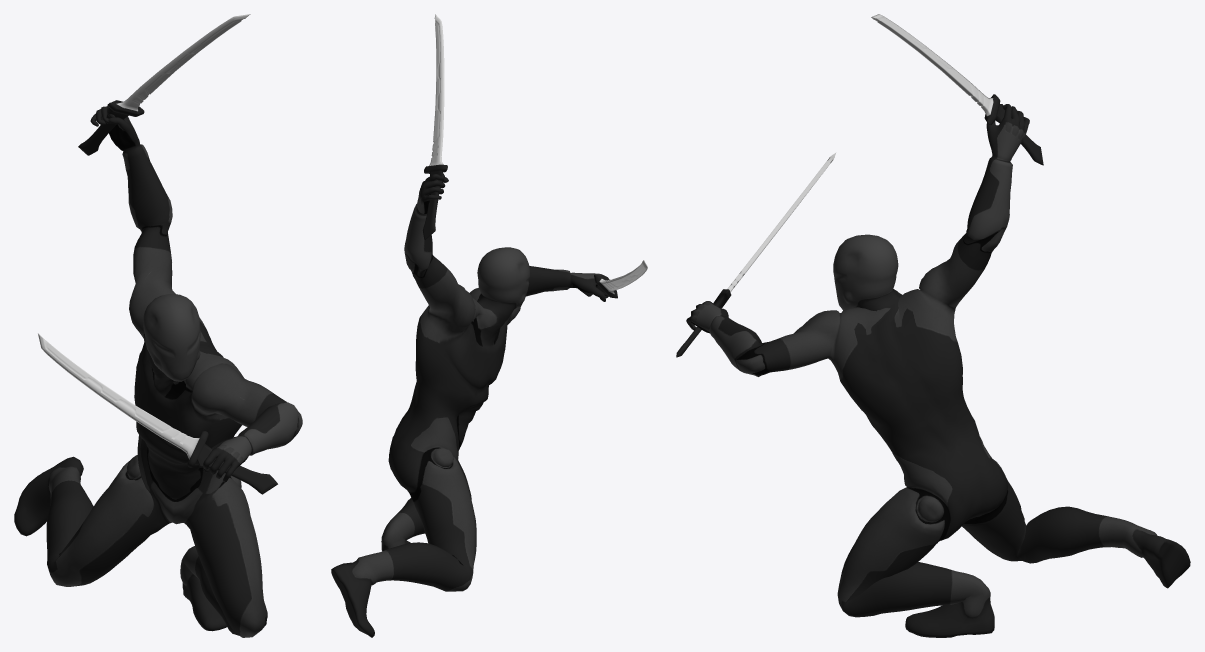
3 views of the same model, side by side, from view 1: azimuth 30°, elevation 25°; view 2: azimuth 150°, elevation 25°; view 3: azimuth 270°, elevation 25° (orthographic). The views are drawn at different scales.
Visible parts, largest first — view 1: Cyborg_Ninja_Killer, Sword_l, Sword_l001; view 2: Cyborg_Ninja_Killer, Sword_l001, Sword_l; view 3: Cyborg_Ninja_Killer, Sword_l001, Sword_l.
Part boxes in pixels (x1=…): Cyborg_Ninja_Killer: x1=14, y1=102, x2=302, y2=637; Sword_l: x1=38, y1=333, x2=277, y2=494; Sword_l001: x1=78, y1=14, x2=250, y2=155; Cyborg_Ninja_Killer: x1=331, y1=174, x2=609, y2=637; Sword_l001: x1=422, y1=14, x2=447, y2=239; Sword_l: x1=578, y1=260, x2=647, y2=298; Cyborg_Ninja_Killer: x1=686, y1=104, x2=1190, y2=637; Sword_l001: x1=871, y1=14, x2=1043, y2=165; Sword_l: x1=676, y1=152, x2=836, y2=357.
Bounding box in the file's own units: 90.37 × 216 × 164.
Materials: 2 (2 with a texture image).
